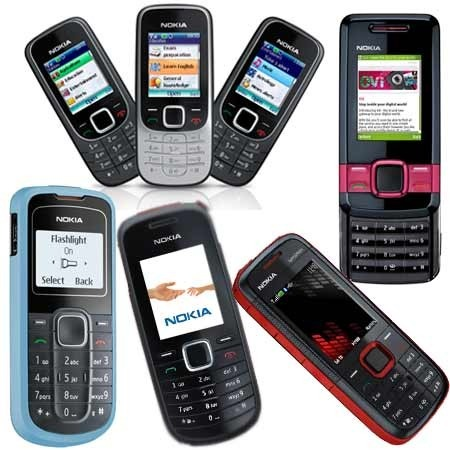mobile: (331, 11, 449, 287)
